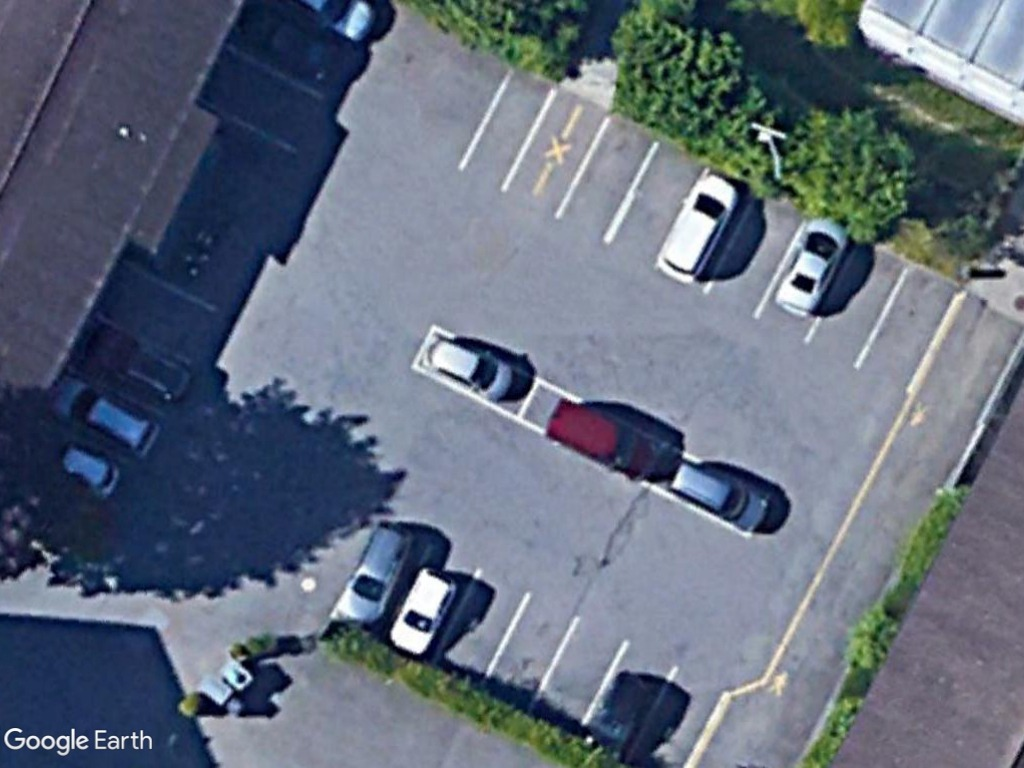car: (541, 391, 662, 482), (653, 172, 741, 288), (51, 375, 166, 460), (338, 517, 418, 630), (771, 215, 853, 319), (668, 455, 771, 534), (385, 565, 460, 656), (421, 335, 518, 403)
